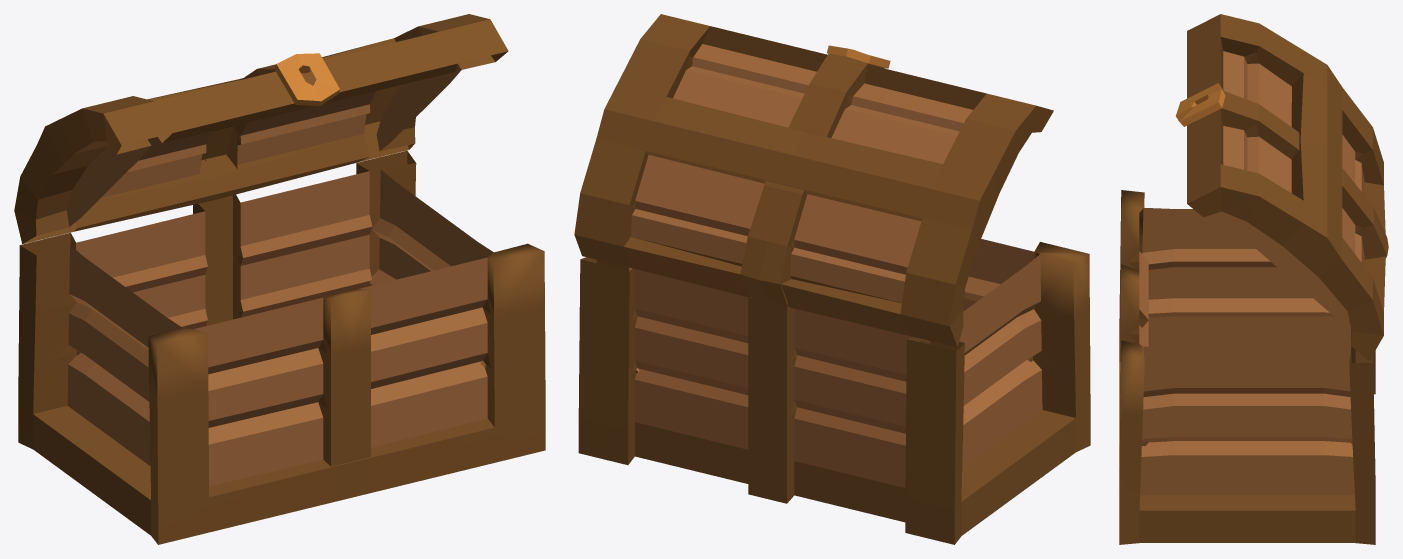
Rendered from chest2.fbx.
The picture shows the model from 3 angles, left to right: view 1: azimuth 30°, elevation 25°; view 2: azimuth 150°, elevation 25°; view 3: azimuth 270°, elevation 25°; orthographic projection. The views are drawn at different scales.
Parts seen in each view (by area): view 1: chest cover.002; view 2: chest cover.002; view 3: chest cover.002.
Part boxes in pixels (x1,y1,x2,y2): chest cover.002: (14,14,545,544); chest cover.002: (574,14,1090,544); chest cover.002: (1119,14,1388,544).
Size of the model in its own units: 119 by 119 by 78.36.
